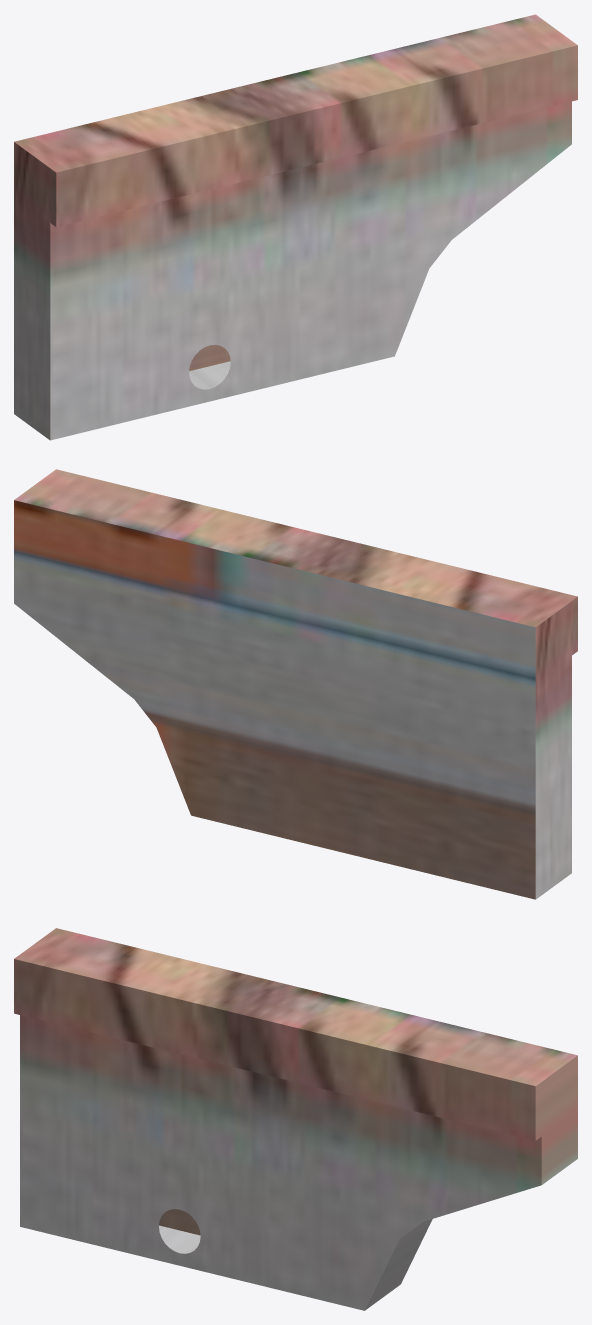
The model's file is original-44.obj.
3 views of the same model, one above another, from view 1: azimuth 30°, elevation 25°; view 2: azimuth 150°, elevation 25°; view 3: azimuth 330°, elevation 25° (orthographic).
Visible parts, largest first — view 1: #ID218; view 2: #ID218; view 3: #ID218.
Part boxes in pixels (x1,y1,x2,y2): #ID218: [14, 14, 577, 440]; #ID218: [14, 469, 577, 899]; #ID218: [14, 928, 577, 1310].
Size of the model in its own units: 0.1295 by 0.0646 by 0.0181.
